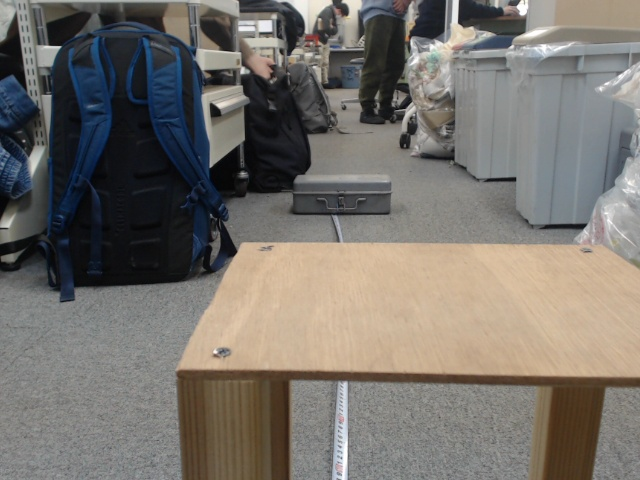desk: (245, 160, 472, 409)
